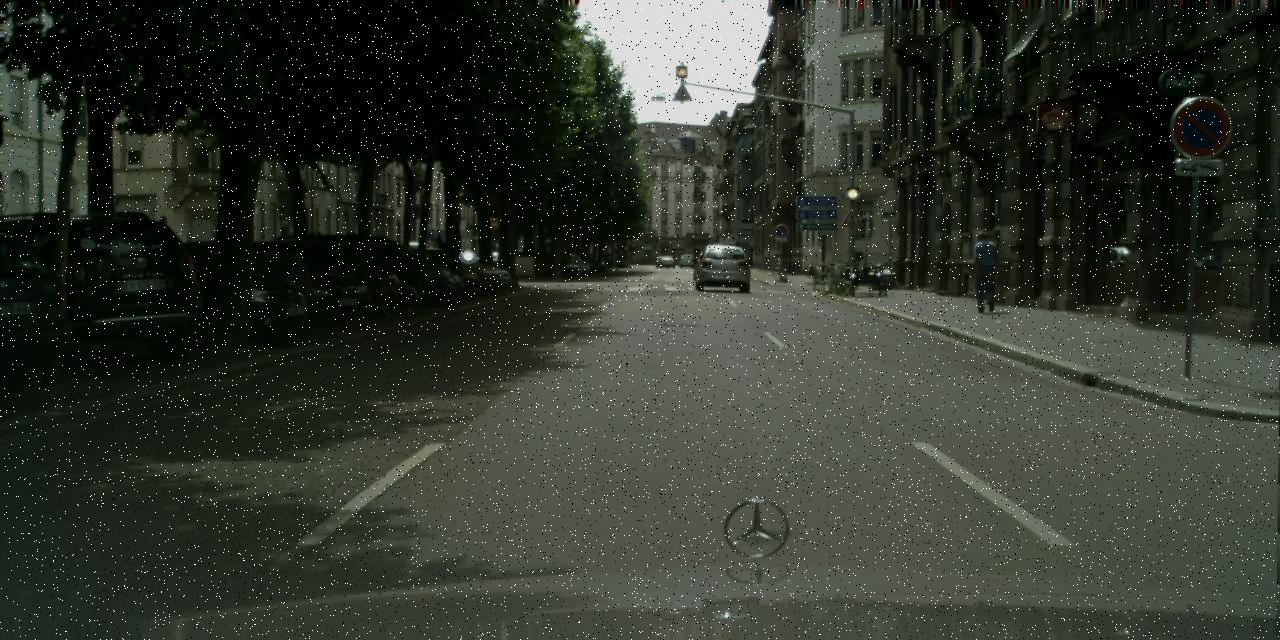ped: (967, 230, 1000, 312), (434, 236, 452, 282)
